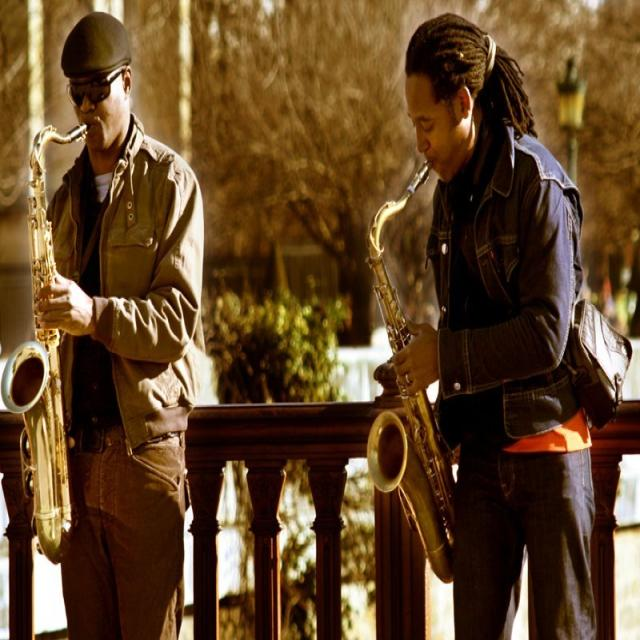saxophone: (363, 157, 466, 587), (1, 118, 96, 566)
